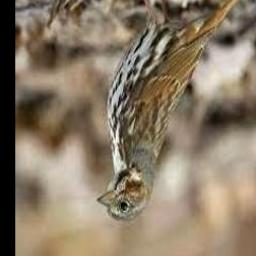Sparrow: (95, 0, 255, 222)
